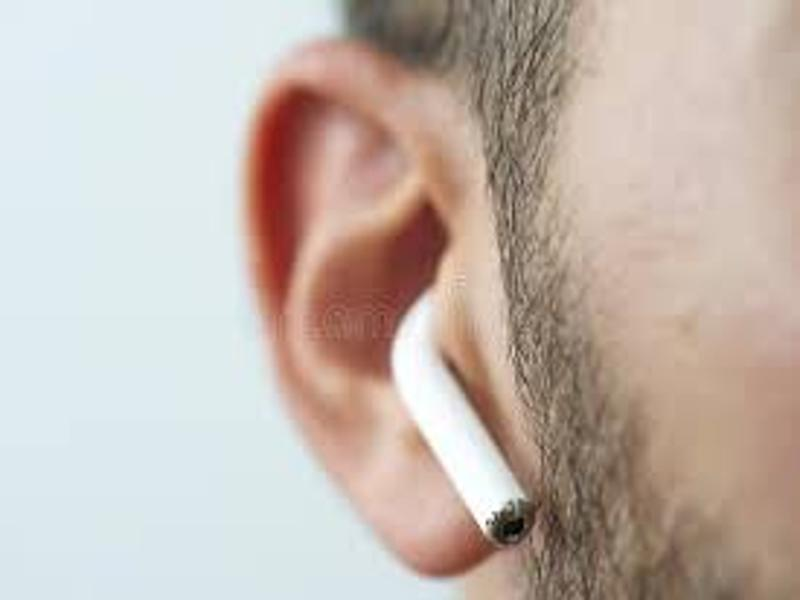headphone: (387, 280, 542, 547)
